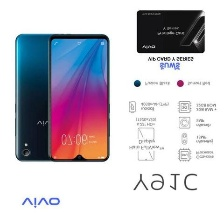book: (133, 8, 206, 54)
phone: (44, 30, 112, 164), (10, 31, 74, 162)
